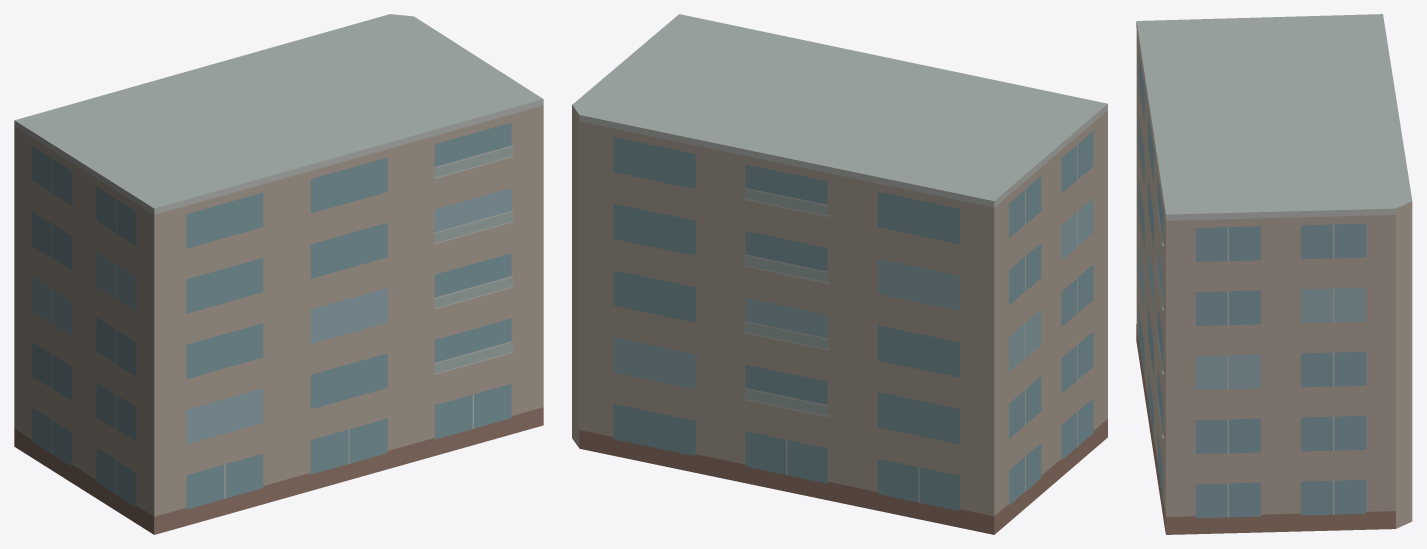
File: survey-upis-32623324.glb
3 views of the same model, side by side, from view 1: azimuth 30°, elevation 25°; view 2: azimuth 150°, elevation 25°; view 3: azimuth 270°, elevation 25° (orthographic). The views are drawn at different scales.
Visible parts, largest first — view 1: survey-upis-32623324.tmp; view 2: survey-upis-32623324.tmp; view 3: survey-upis-32623324.tmp.
Boxes of the visible parts, x1,y1,x2,y2 form: survey-upis-32623324.tmp: (14, 14, 543, 534); survey-upis-32623324.tmp: (572, 14, 1107, 534); survey-upis-32623324.tmp: (1136, 14, 1412, 534).
Bounding box in the file's own units: 17 × 12.65 × 9.88.
